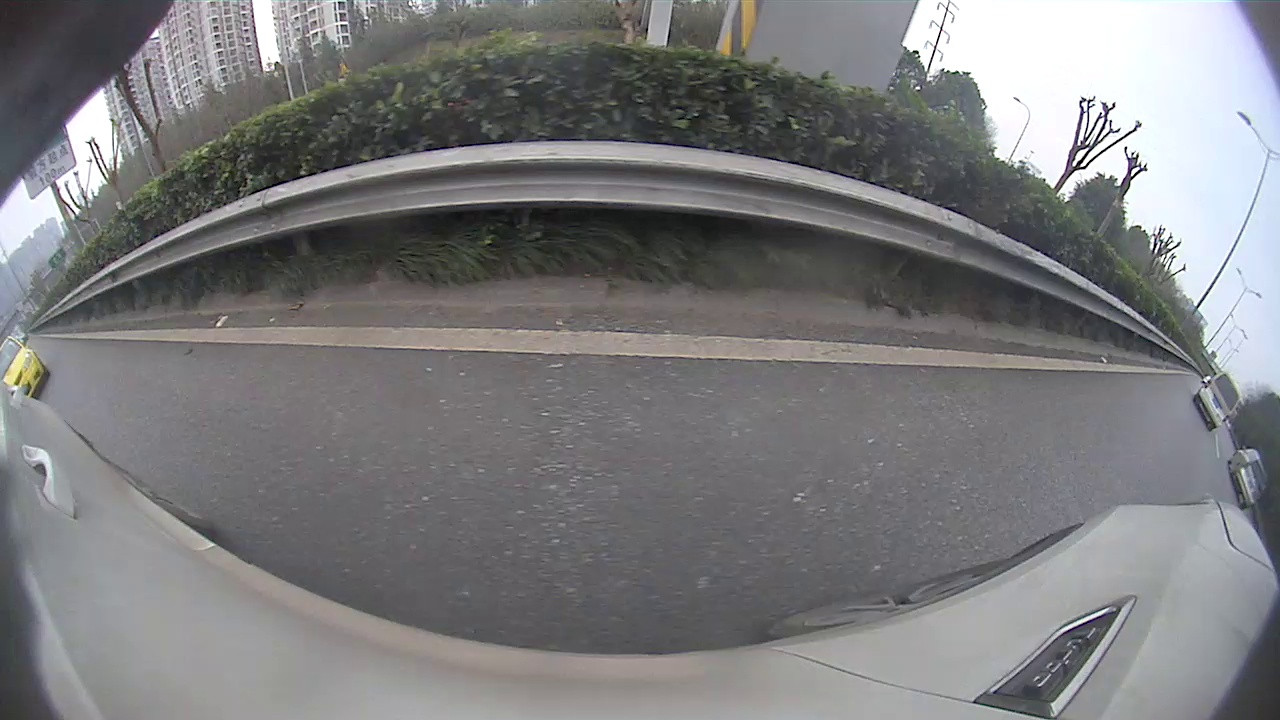car: (1, 340, 49, 399), (1198, 371, 1241, 432), (1230, 448, 1264, 510)
